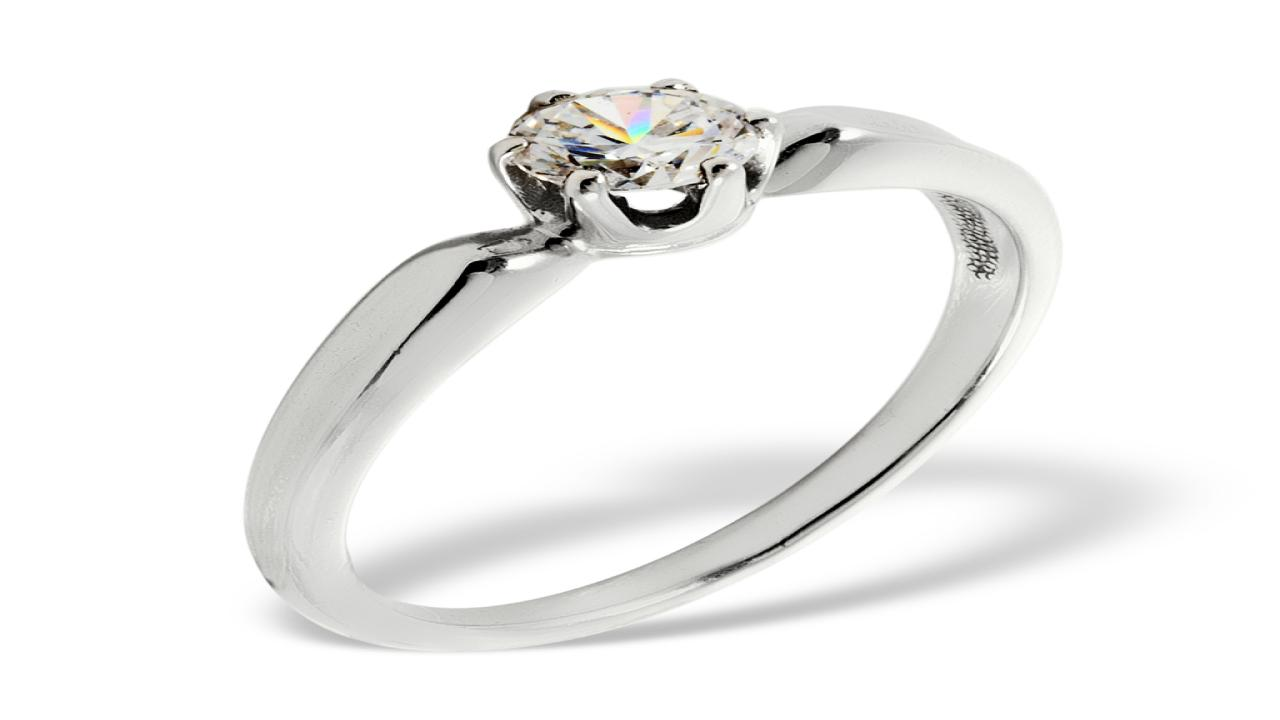ring: (235, 76, 1076, 657)
